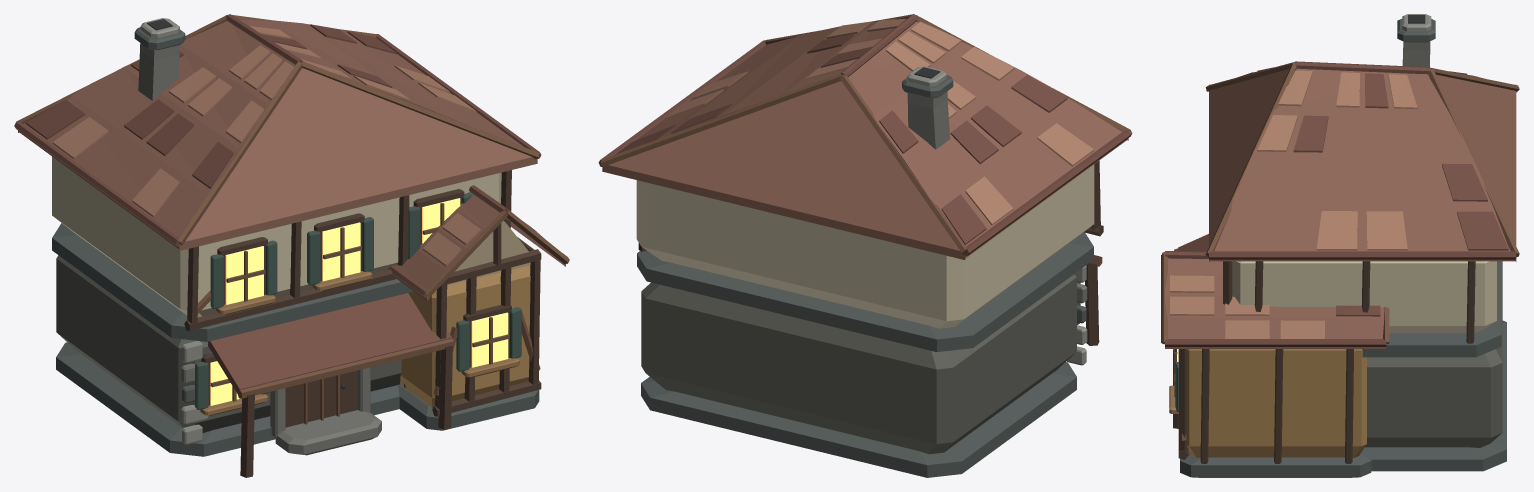
Rendered from BLD_V3_Inn_Coaching.glb.
3 views of the same model, side by side, from view 1: azimuth 30°, elevation 25°; view 2: azimuth 150°, elevation 25°; view 3: azimuth 270°, elevation 25° (orthographic). The views are drawn at different scales.
Parts seen in each view (by area): view 1: BLD_V3_Inn_Coaching; view 2: BLD_V3_Inn_Coaching; view 3: BLD_V3_Inn_Coaching.
Boxes of the visible parts, x1,y1,x2,y2 form: BLD_V3_Inn_Coaching: (14, 14, 569, 477); BLD_V3_Inn_Coaching: (598, 14, 1132, 477); BLD_V3_Inn_Coaching: (1161, 14, 1519, 477).
Bounding box in the file's own units: 4.65 × 4.29 × 4.08.
